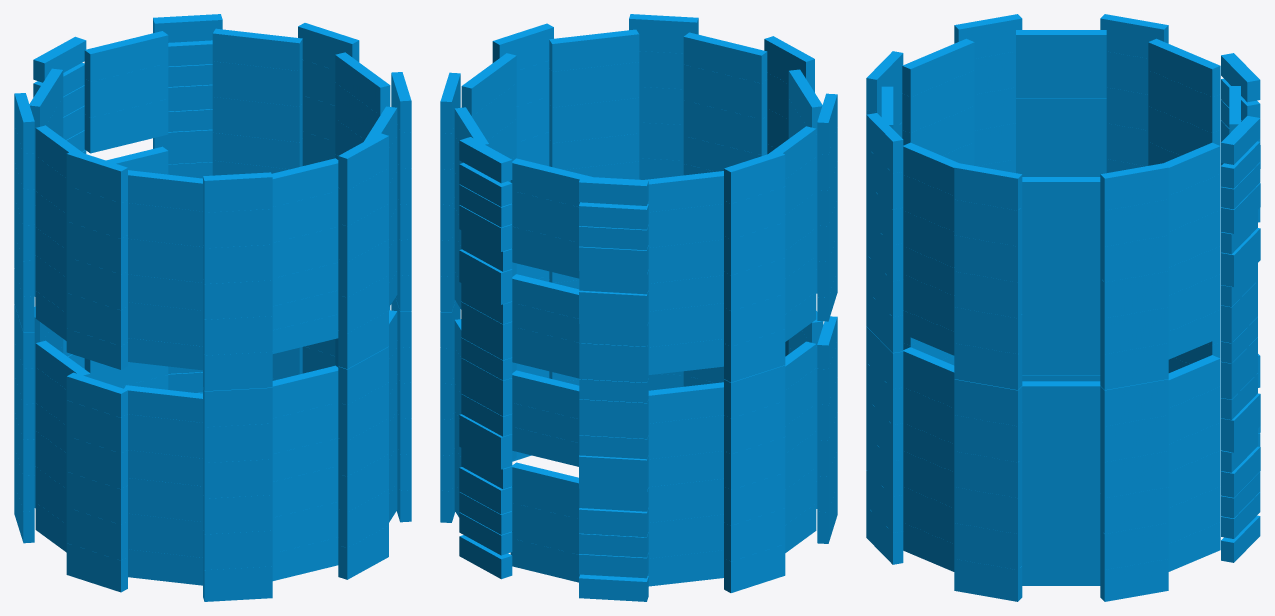
File: rmuonbarrelout.fbx
3 views of the same model, side by side, from view 1: azimuth 30°, elevation 25°; view 2: azimuth 150°, elevation 25°; view 3: azimuth 270°, elevation 25° (orthographic).
Visible parts, largest first — view 1: /tmp/importOpenSceneGraph0b347/RMuonBarrelOut.wrl_Group_Grou (×127); view 2: /tmp/importOpenSceneGraph0b347/RMuonBarrelOut.wrl_Group_Grou (×132); view 3: /tmp/importOpenSceneGraph0b347/RMuonBarrelOut.wrl_Group_Grou (×113).
Part boxes in pixels (left/top/right/bottom): /tmp/importOpenSceneGraph0b347/RMuonBarrelOut.wrl_Group_Grou (×127): left=14, top=14, right=411, bottom=601; /tmp/importOpenSceneGraph0b347/RMuonBarrelOut.wrl_Group_Grou (×132): left=440, top=14, right=837, bottom=601; /tmp/importOpenSceneGraph0b347/RMuonBarrelOut.wrl_Group_Grou (×113): left=866, top=14, right=1260, bottom=601.
Bounding box in the file's own units: 21454 × 25694 × 21684.
